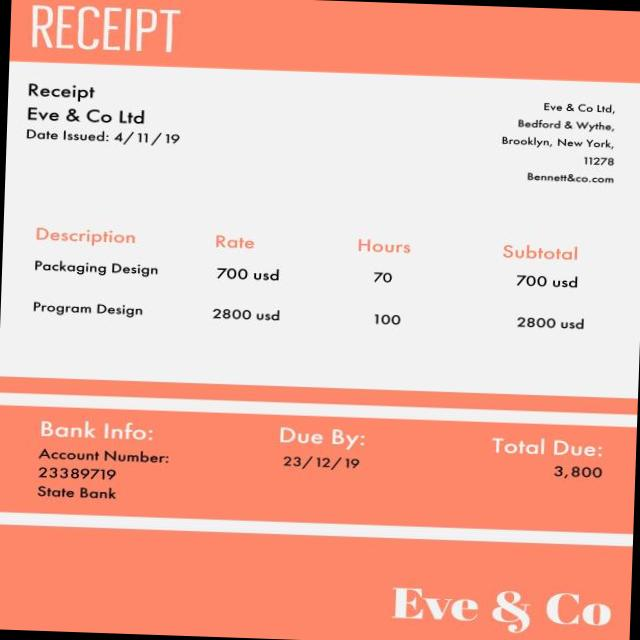due_date: (279, 452, 364, 474)
invoice_date: (111, 126, 187, 149)
invoice_total: (550, 460, 610, 483)
item_description: (24, 254, 164, 323)
item_quantity: (360, 262, 411, 336)
item_total_price: (509, 268, 594, 338)
item_unit_price: (203, 260, 290, 331)
supplier_address: (494, 96, 619, 152)
supplier_name: (366, 572, 628, 640), (24, 102, 150, 126)
